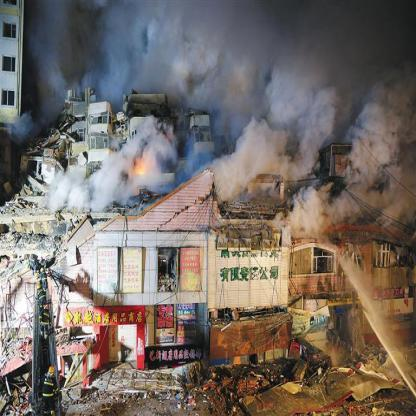smoke: (264, 22, 335, 138), (126, 13, 210, 96), (36, 16, 122, 92), (348, 86, 410, 179), (212, 124, 289, 184), (221, 23, 262, 117), (73, 172, 117, 204), (290, 194, 322, 230)
